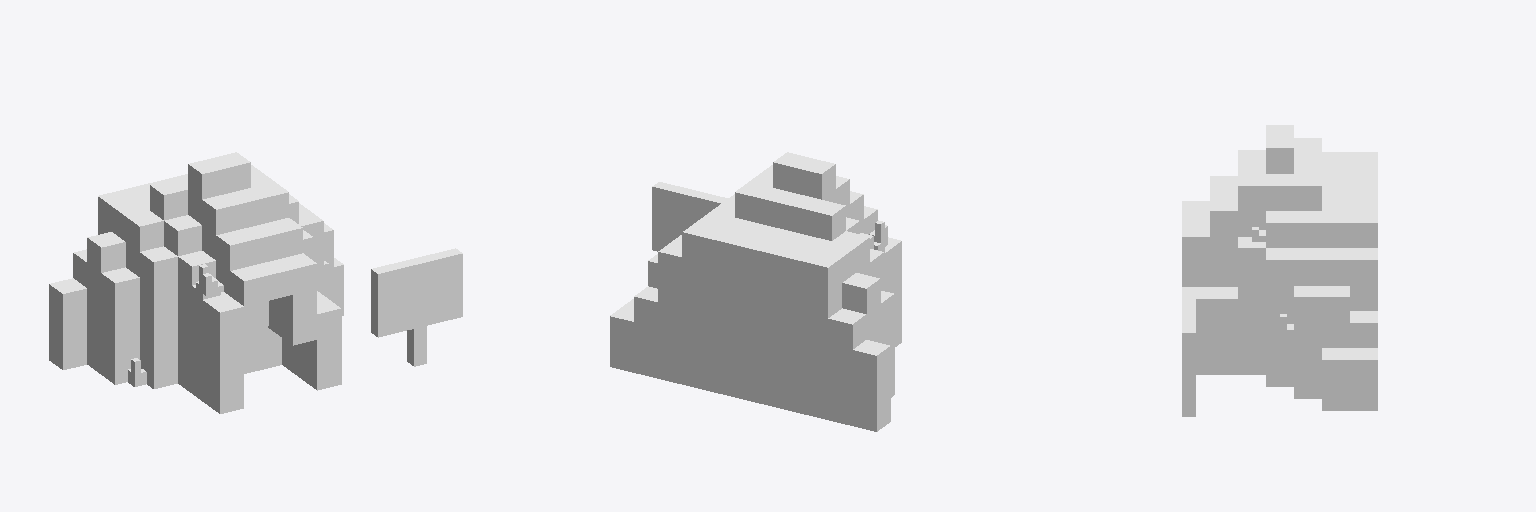
Rendered from Cave_01.obj.
The picture shows the model from 3 angles: view 1: azimuth 30°, elevation 25°; view 2: azimuth 150°, elevation 25°; view 3: azimuth 270°, elevation 25°; orthographic projection.
Parts seen in each view (by area): view 1: object 1; view 2: object 1; view 3: object 1.
Part boxes in pixels (bbox=[...]): object 1: bbox=[49, 152, 462, 413]; object 1: bbox=[610, 152, 901, 431]; object 1: bbox=[1182, 125, 1377, 416].
Bounding box in the file's own units: 5.2 × 3.2 × 2.8.